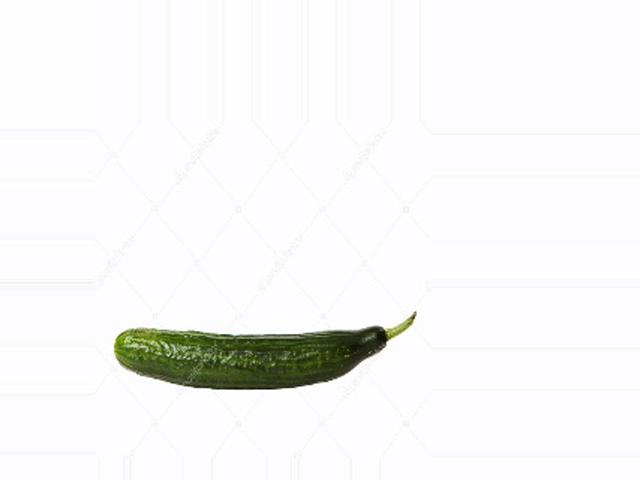cucumber: (115, 312, 418, 388)
